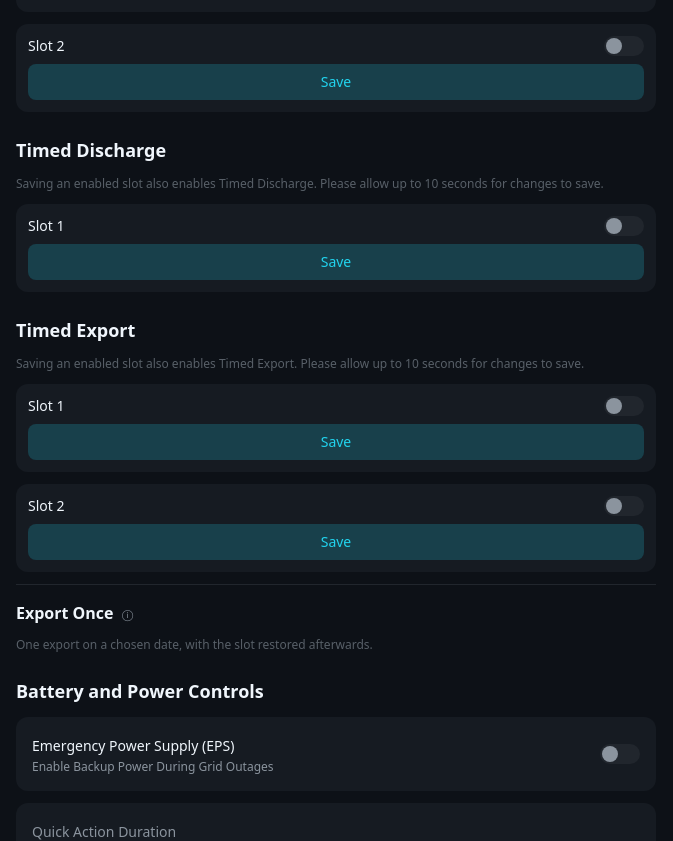
Test: <ControlPage/> — Timed Export / Timed Discharge save parity › replaces progress with the full backend error when a Timed Export save fails later
(page scrolled)
Click the 4th button "Save". click: (336, 442)
box: [28,424,644,460]
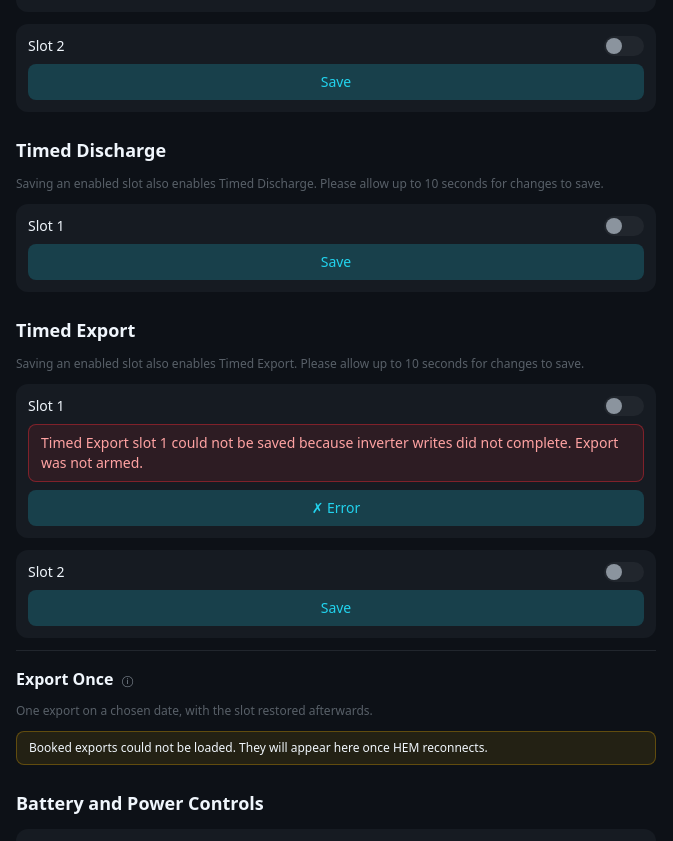
Result: the 1st message shows "Timed Export slot 1 could not be saved because inverter writes did not complete. Export was not armed." at [41,433,618,472]
